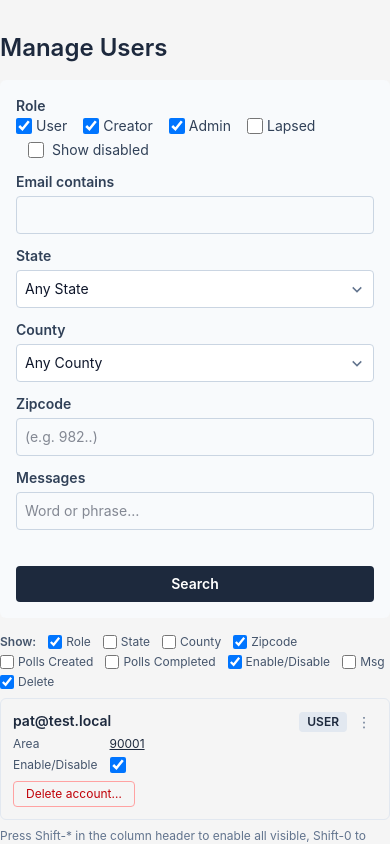
ManageUsersView: cards on phones (2026-10-28) › shows a card per account, and a card's Delete opens the same confirmation
The image size is (390, 844).
Expected: the number of list items is 1, [0,698,389,820]
Click the button with test id "card-delete": point(74, 794) [13,781,135,807]
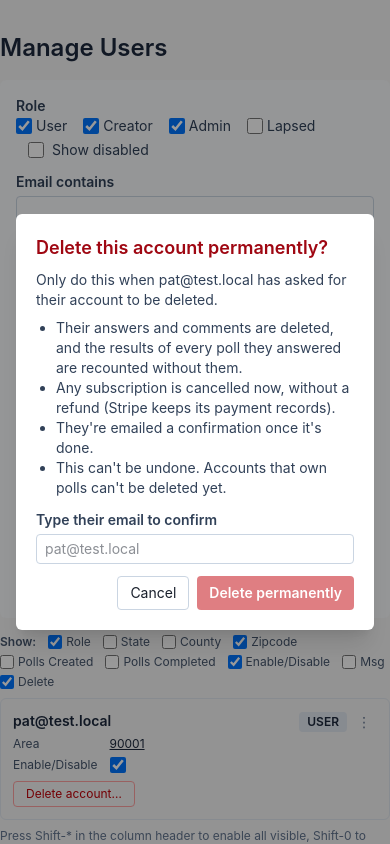
Now the dialog with test id "delete-modal" shows "pat@test.local", box [36,271,346,308]
